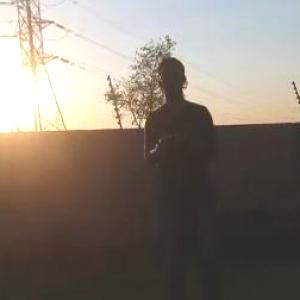follow: (140, 46, 240, 299)
